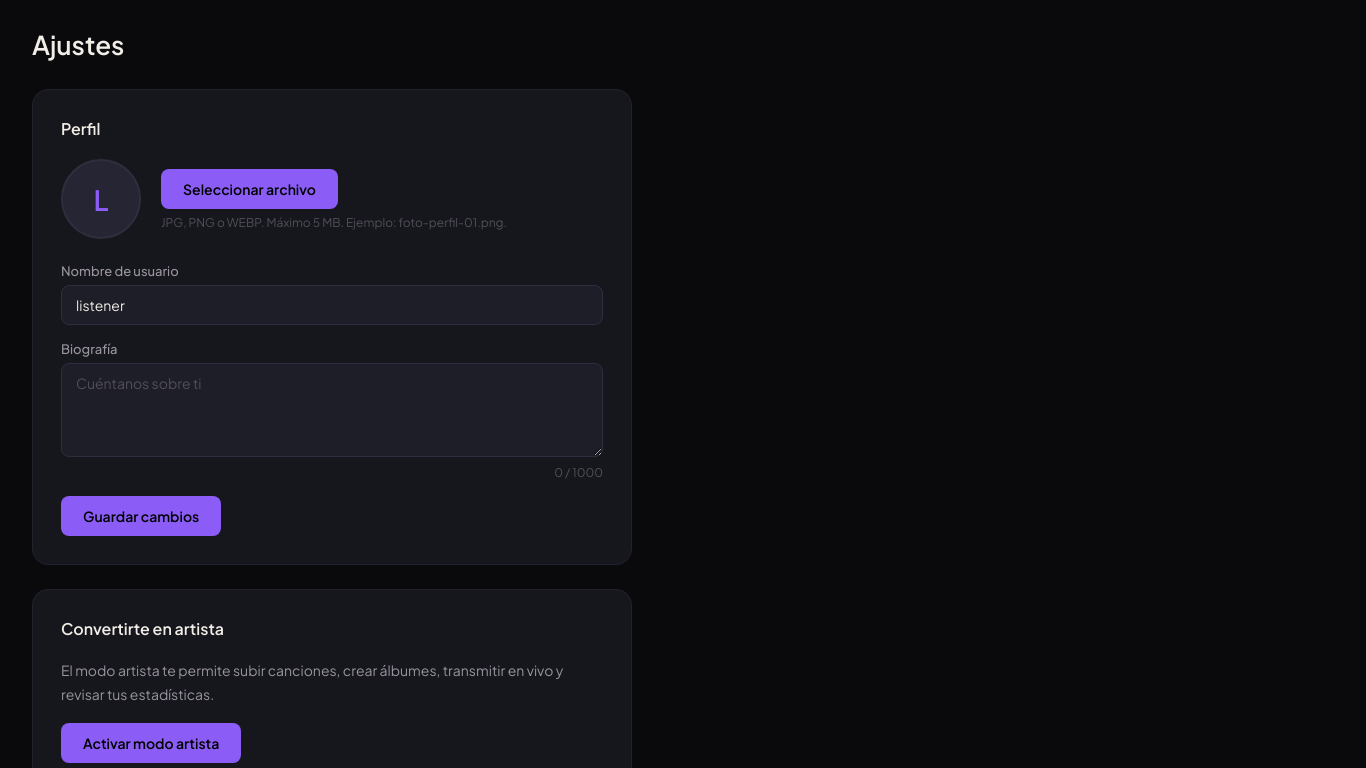
SettingsPage › keeps the user on settings when catalog still has not created the artist profile
This screenshot has width=1366, height=768.
Click the button "Activar modo artista".
click(151, 743)  # box [61,723,241,763]
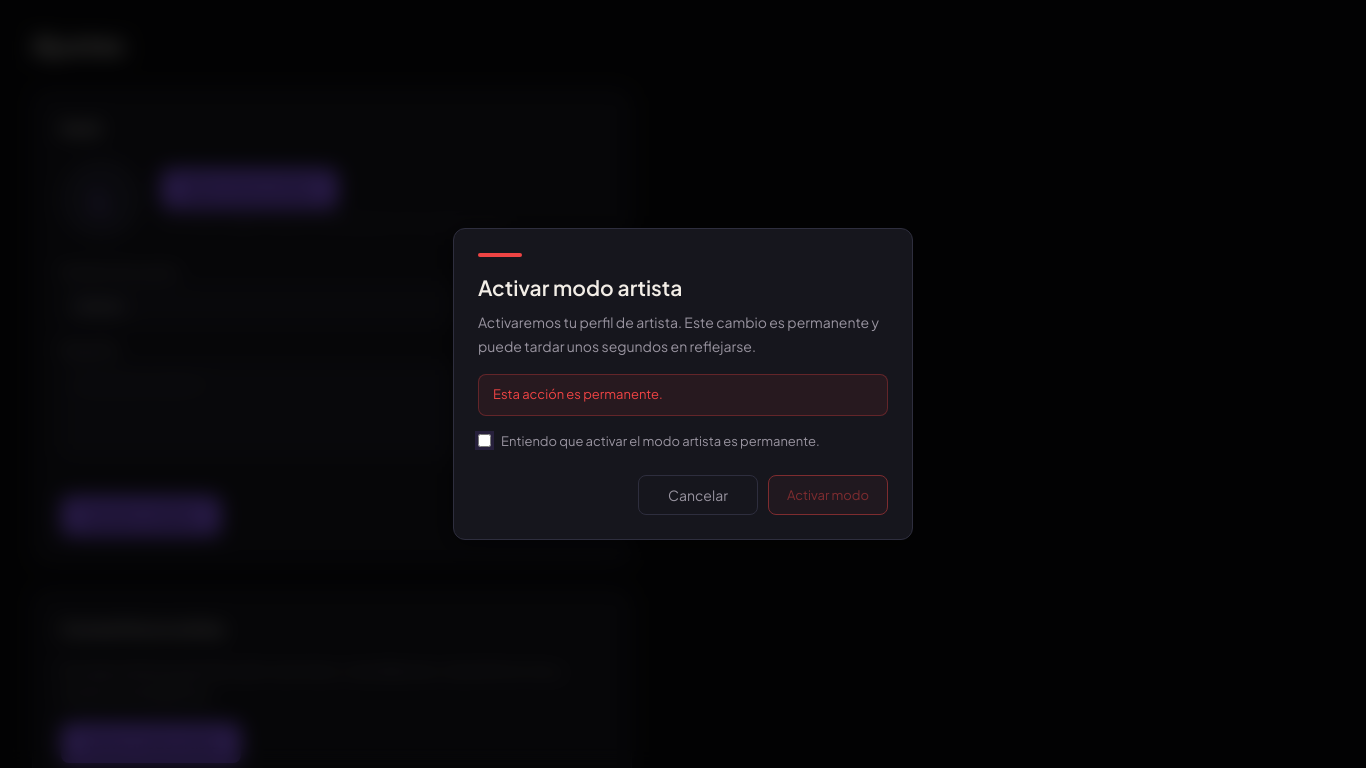
Click the checkbox.
click(484, 440)  # box [478,434,491,447]
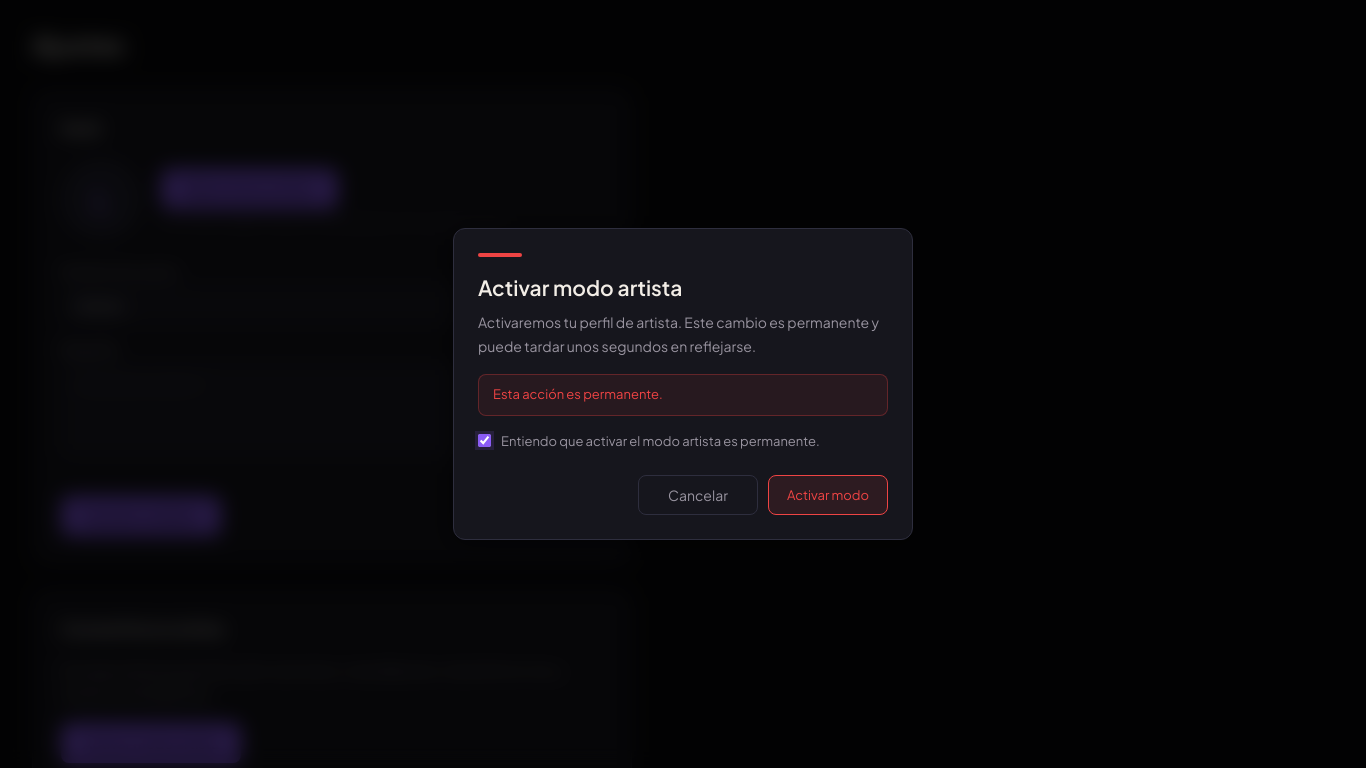
Click the button "Activar modo".
click(828, 495)  # box [768,475,888,515]
Wait 6000 ms
(page scrolled)
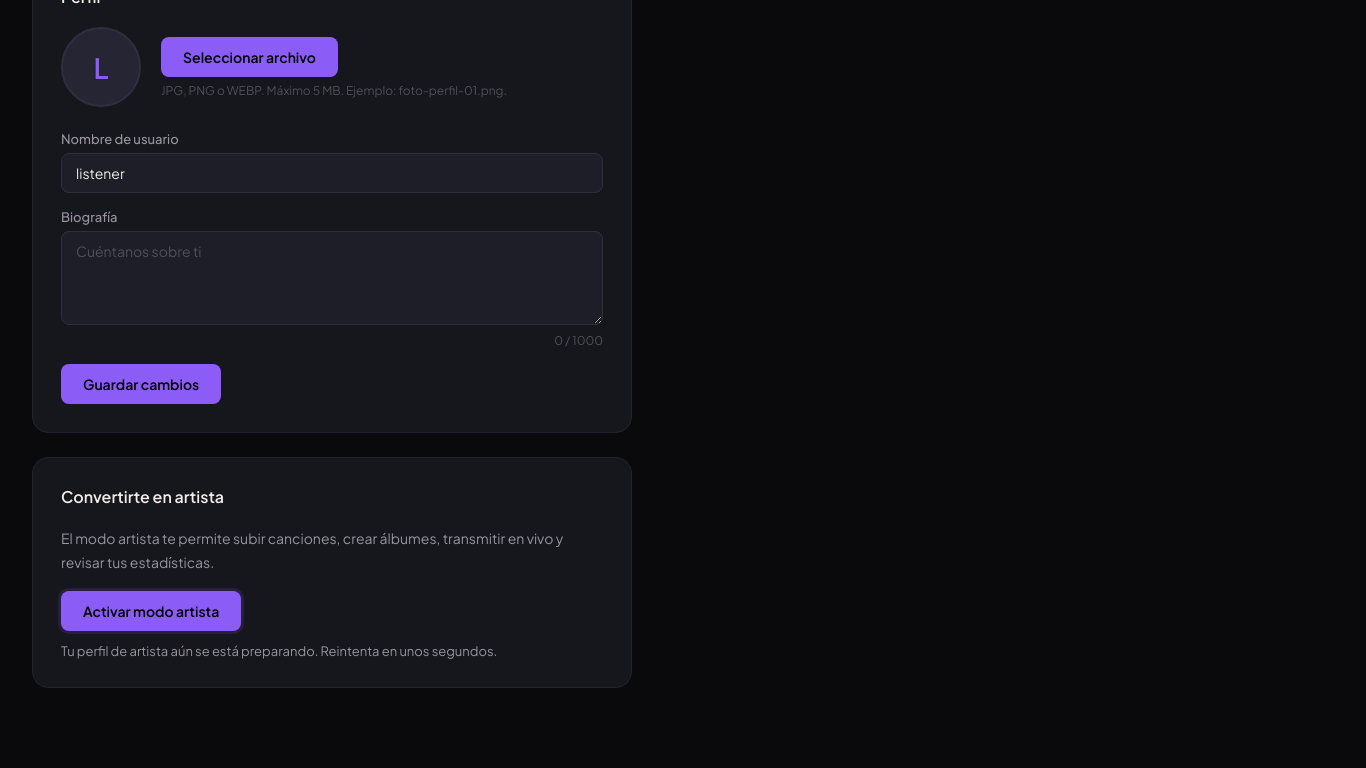
Check: the text "Tu perfil de artista aún se está preparando. Reintenta en unos segundos." is shown, box [61,643,497,659]
Check: the dialog is gone
